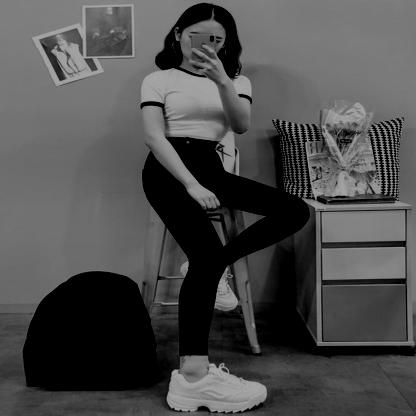dress: (144, 138, 310, 361), (146, 66, 250, 146)
